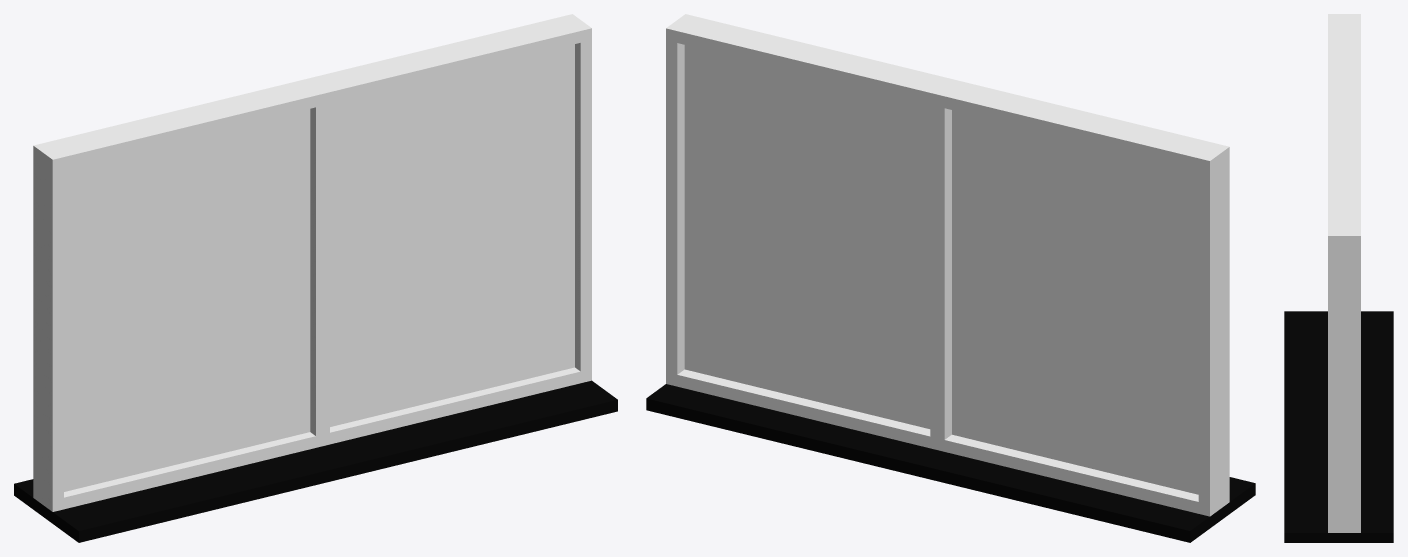
Rendered from wyD.fbx.
3 views of the same model, side by side, from view 1: azimuth 30°, elevation 25°; view 2: azimuth 150°, elevation 25°; view 3: azimuth 270°, elevation 25° (orthographic). The views are drawn at different scales.
Visible parts, largest first — view 1: glass, i, i2; view 2: glass, i, i2; view 3: i2, i.
Part boxes in pixels (<box>): glass: <box>64,44,574,491</box>; i: <box>33,14,591,511</box>; i2: <box>14,380,617,542</box>; glass: <box>684,45,1198,494</box>; i: <box>666,14,1229,516</box>; i2: <box>646,384,1255,542</box>; i2: <box>1284,311,1393,542</box>; i: <box>1328,14,1360,532</box>.
Size of the model in its own units: 19.21 by 12.39 by 4.
